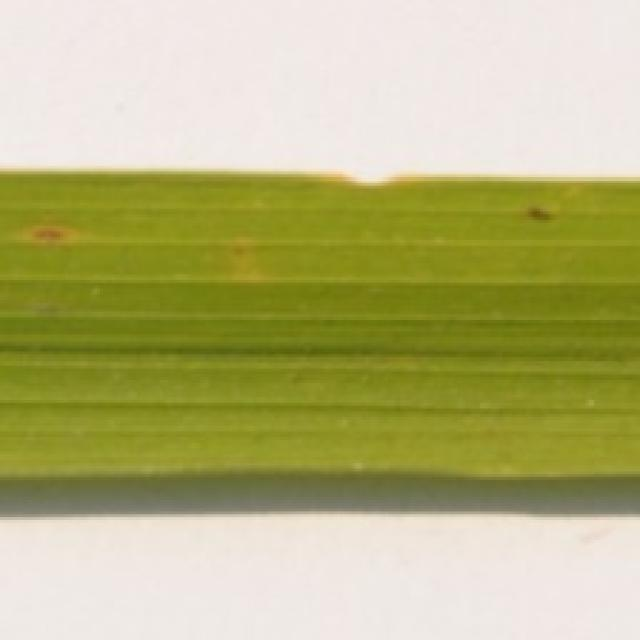Rice___Brown_Spot: (0, 171, 637, 483)
